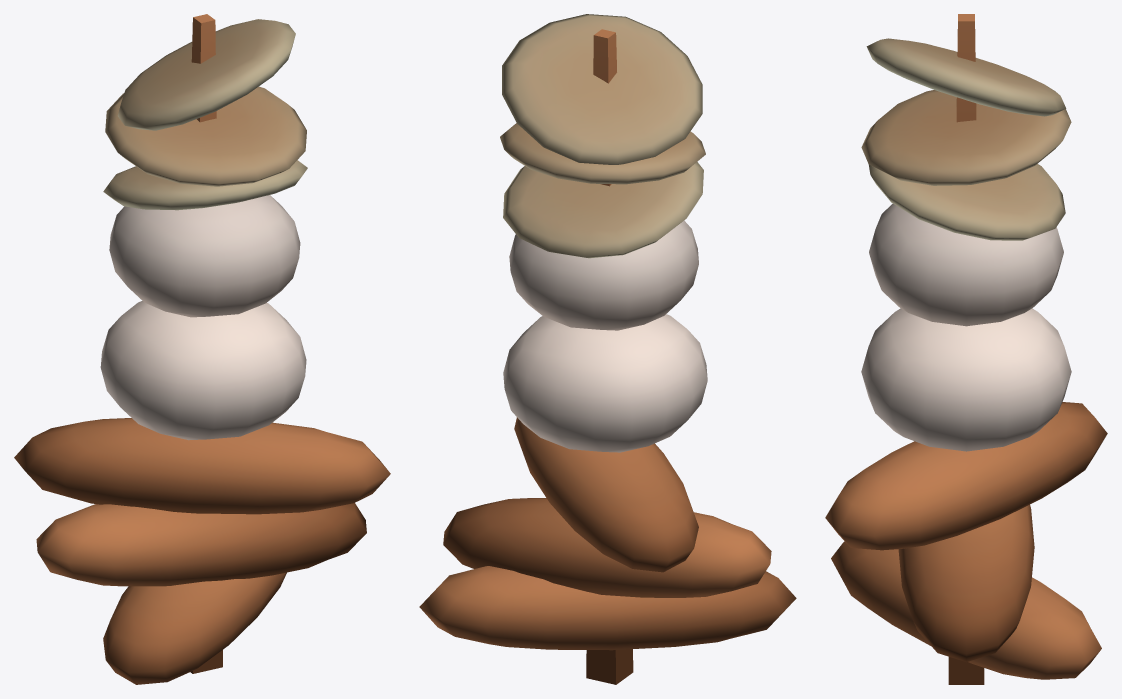
Rendered from lpb_food_fishball.fbx.
3 views of the same model, side by side, from view 1: azimuth 30°, elevation 25°; view 2: azimuth 150°, elevation 25°; view 3: azimuth 270°, elevation 25° (orthographic). The views are drawn at different scales.
Visible parts, largest first — view 1: pisbol; view 2: pisbol; view 3: pisbol.
Boxes of the visible parts, left/top/right/bottom form: pisbol: left=14, top=14, right=390, bottom=684; pisbol: left=419, top=14, right=796, bottom=684; pisbol: left=825, top=14, right=1107, bottom=684.
Size of the model in its own units: 22.38 by 42.02 by 16.25.
